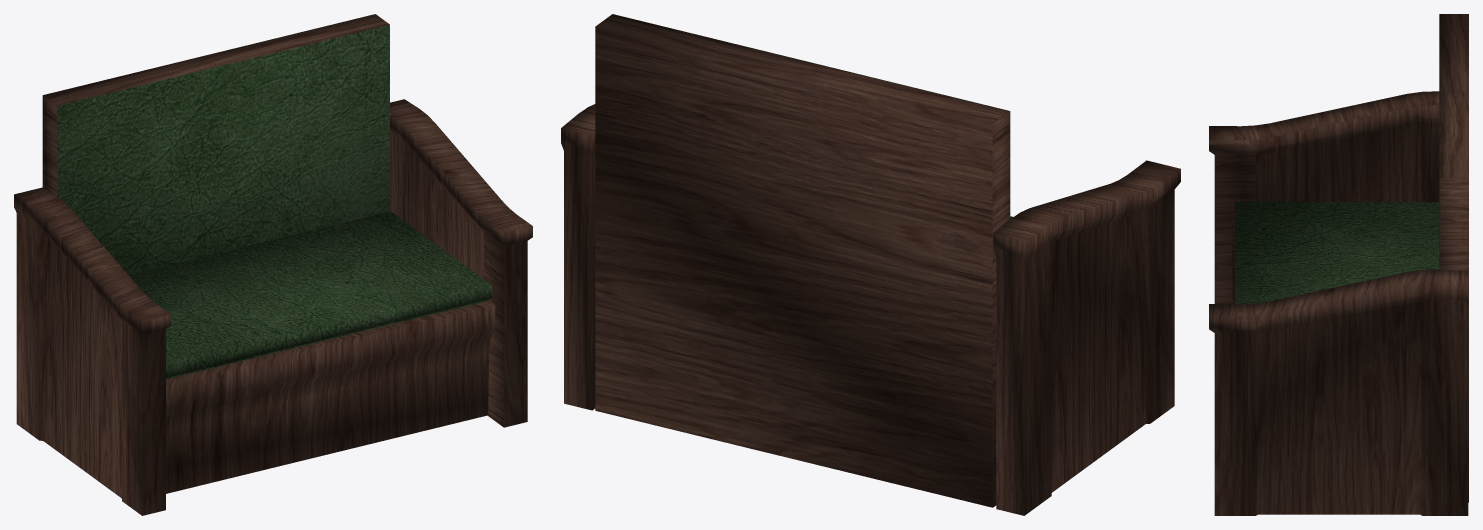
File: couch_proto.fbx
3 renders of one model, left to right at view 1: azimuth 30°, elevation 25°; view 2: azimuth 150°, elevation 25°; view 3: azimuth 270°, elevation 25°, orthographic. The views are drawn at different scales.
Visible parts, largest first — view 1: back; view 2: back; view 3: back.
Part boxes in pixels (x1,y1,x2,y2): back: (14,14,532,515); back: (561,14,1180,515); back: (1209,14,1468,515).
Bounding box in the file's own units: 172 × 136 × 98.15.
